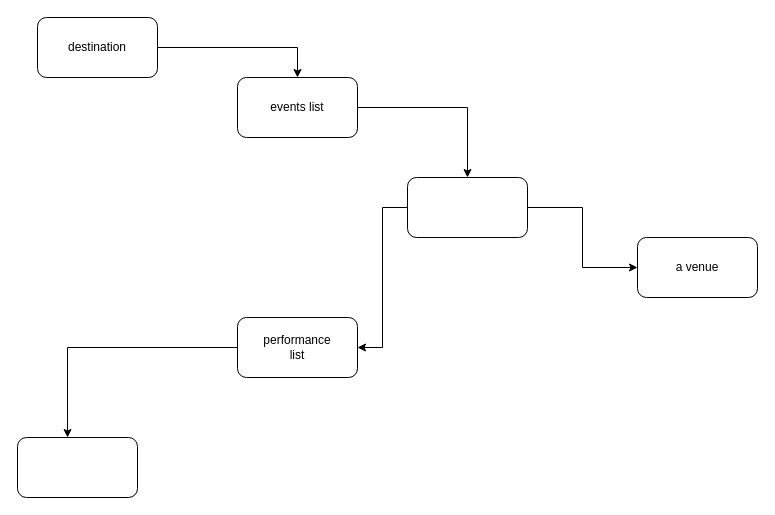
Some shapes in this 775 by 515 pixel diagram are drawn without their labels. Each missing label, with the centre of its shape:
schedule list: (467,207)
tickets list: (77,467)
